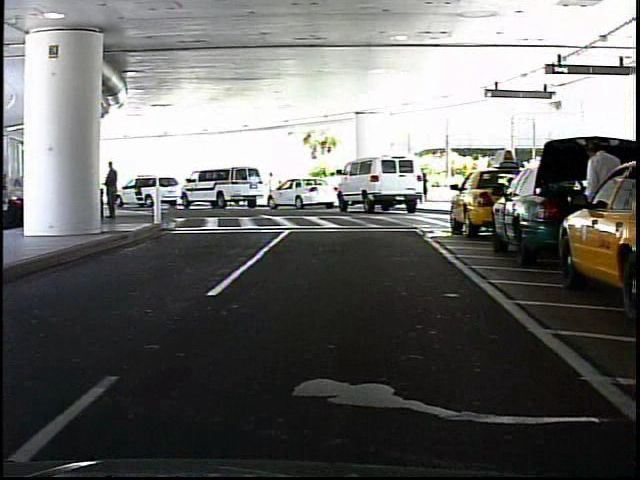person: (576, 129, 621, 277), (107, 158, 124, 224), (264, 170, 281, 205), (425, 170, 429, 205)
